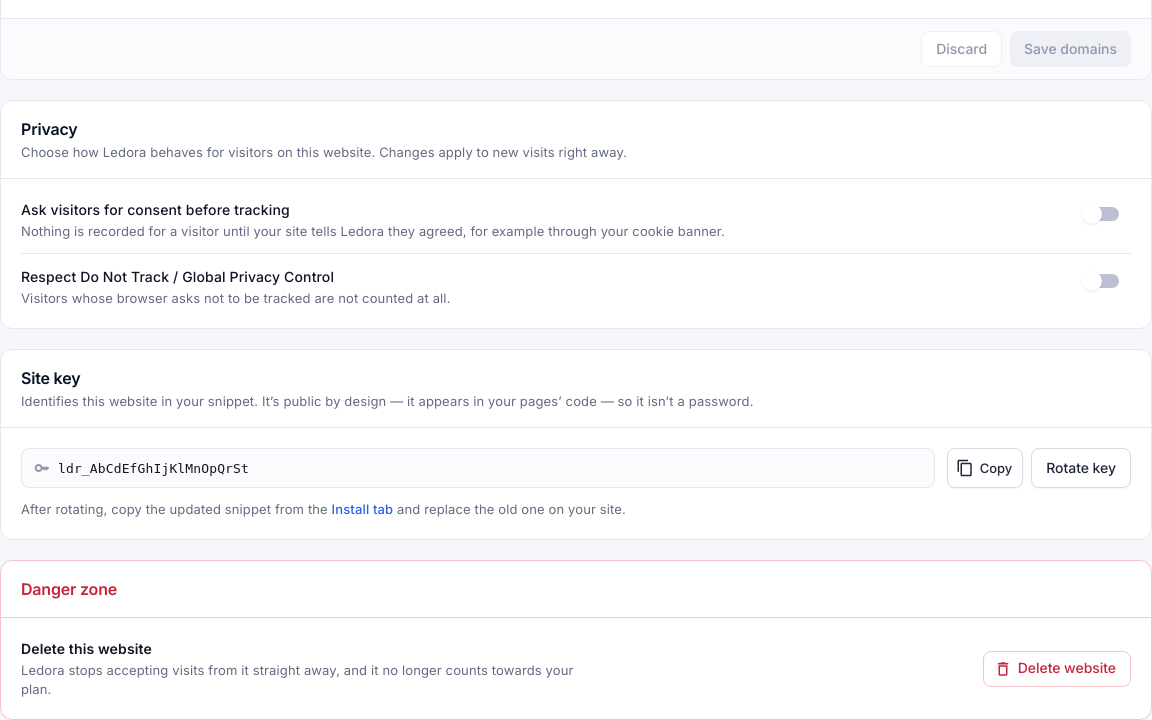
it: permissions › lets a manager rotate the key after a confirmation that warns about the snippet
(page scrolled)
Expected: the button "Delete website" is shown, [983,650,1131,686]
Click the button "Rotate key": (1081, 468) [1031,448,1131,488]
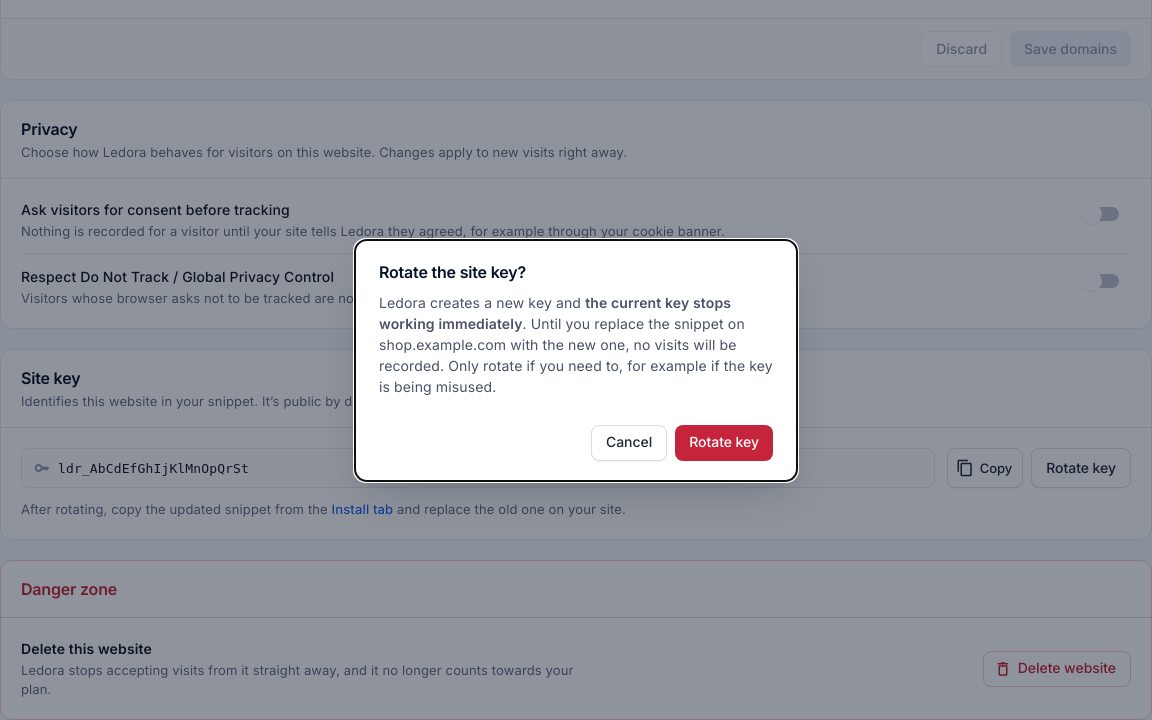
Expected: the text "the current key stops working immediately" is shown, [379,294,731,332]
Expected: the text "replace the snippet" is shown, [522,314,745,332]
Click the button "Rotate key": (724, 442) [675,424,773,460]
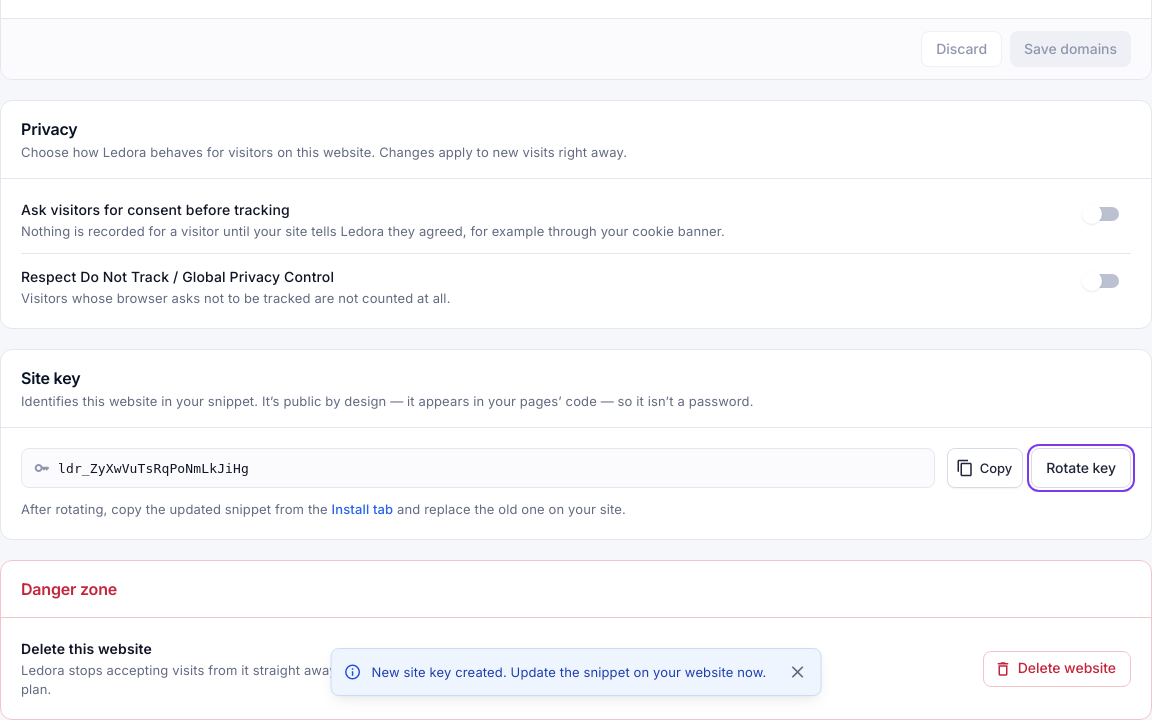
Expected: the text "ldr_ZyXwVuTsRqPoNmLkJiHg" is shown, [58,458,249,478]
